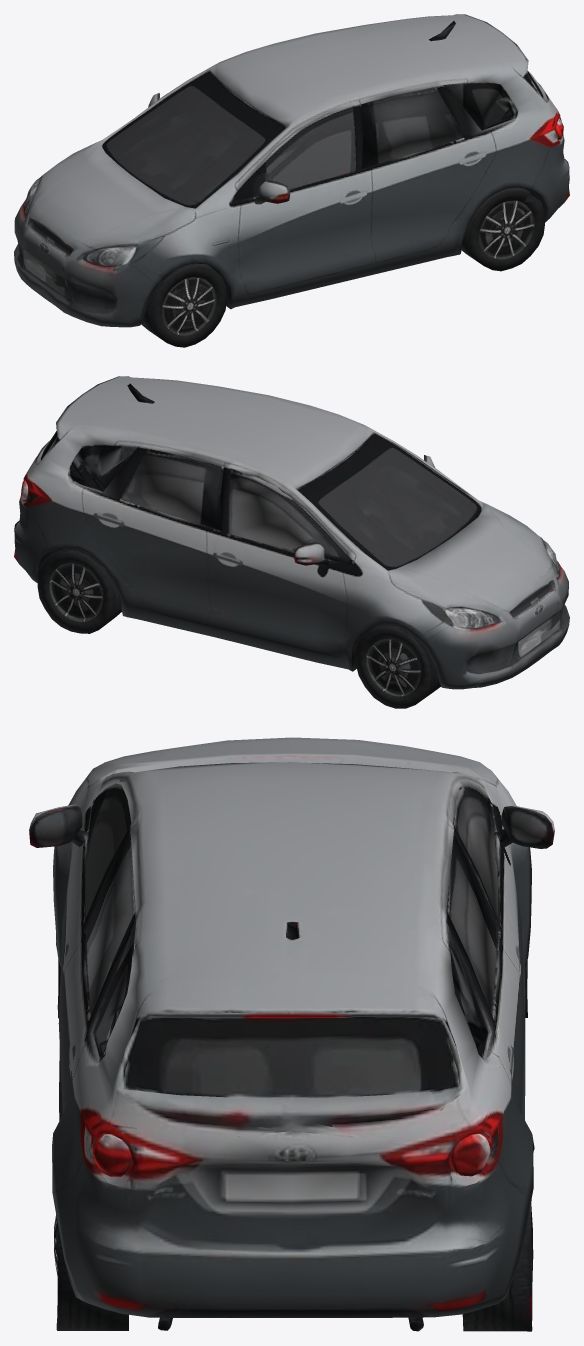
File: meshy-compact-sedan.glb
3 renders of one model, top to bottom at view 1: azimuth 30°, elevation 25°; view 2: azimuth 150°, elevation 25°; view 3: azimuth 270°, elevation 25°, orthographic. The views are drawn at different scales.
Size of the model in its own units: 1 by 0.3973 by 0.4648.
Materials: 1 (1 with a texture image).
